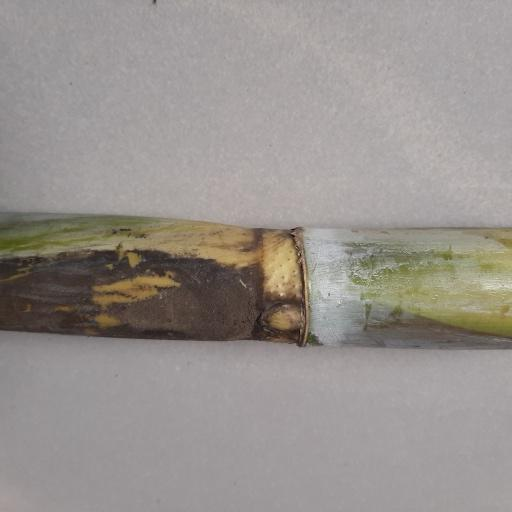Bud: (256, 302, 305, 333)
